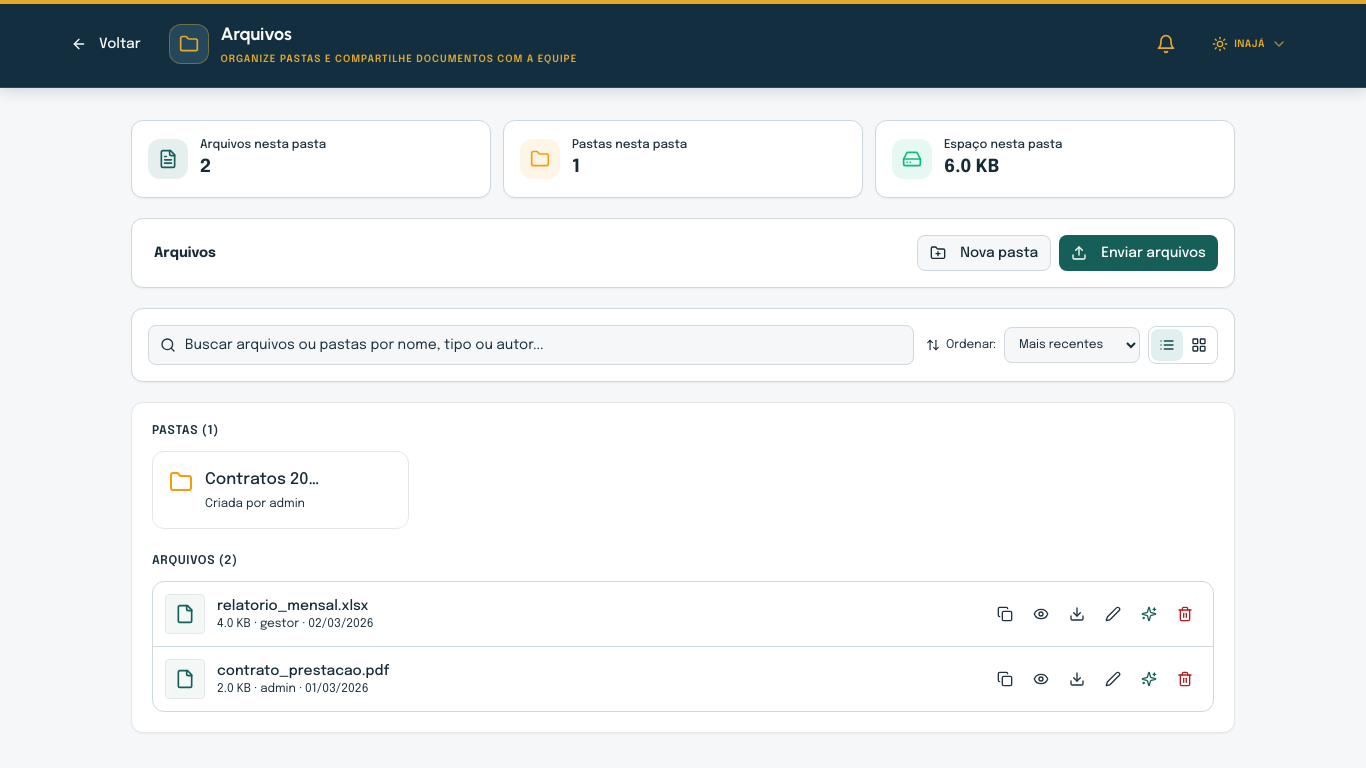
Test case: Arquivos page › lista pastas e arquivos e permite busca textual
Expected: the text "Contratos 2026" is shown, 205,468 -> 320,492
Expected: the text "contrato_prestacao.pdf" is shown, 217,664 -> 389,678
In the field with placeholder "Buscar arquivos ou pastas por nome, tipo ou autor...": (531, 345) 148,325 -> 914,365, type "relatorio"
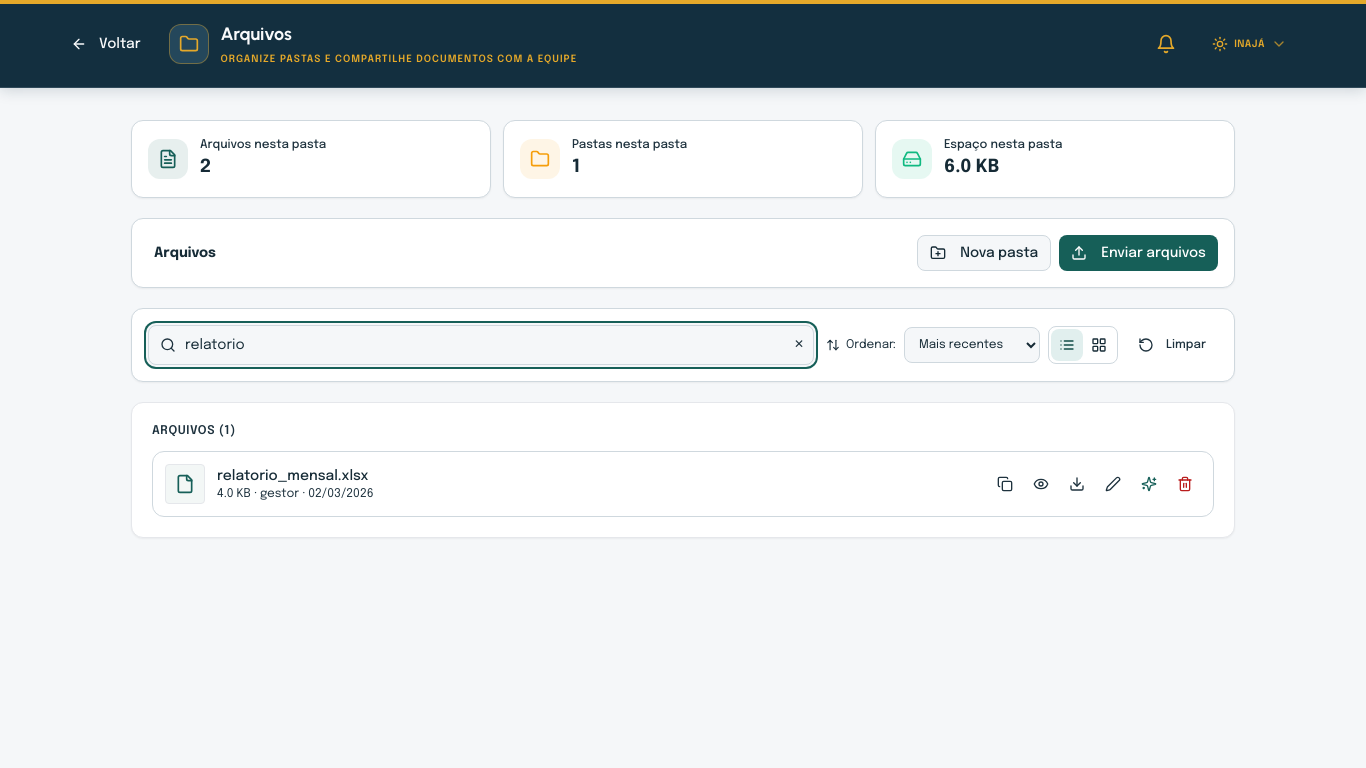
Expected: the text "relatorio_mensal.xlsx" is shown, 217,469 -> 368,483
Now the link "contrato_prestacao.pdf" is gone
Now the button "Contratos 2026" is gone
Click the button named "Limpar busca": click(799, 345) 794,337 -> 804,353
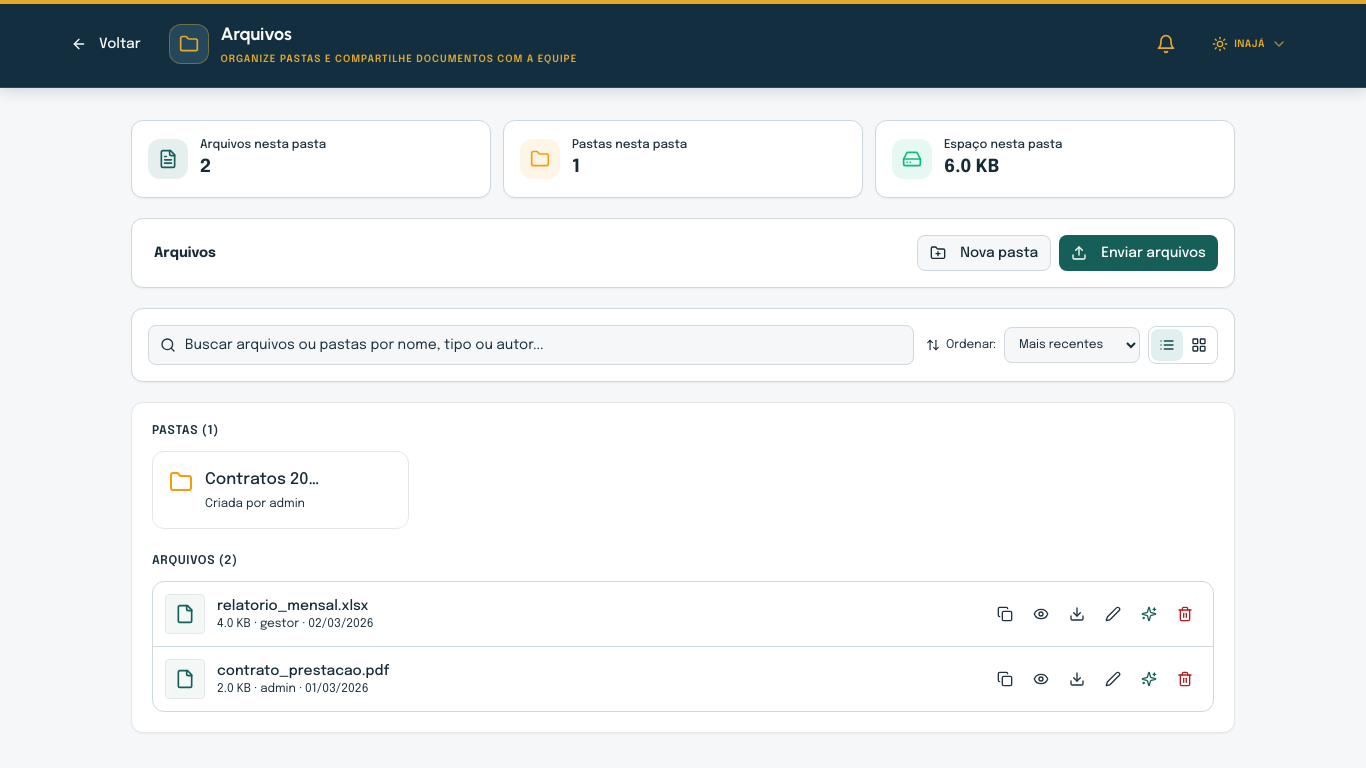
Now the text "contrato_prestacao.pdf" is shown, box 217,664 -> 389,678
Now the text "Contratos 2026" is shown, box 205,468 -> 320,492
